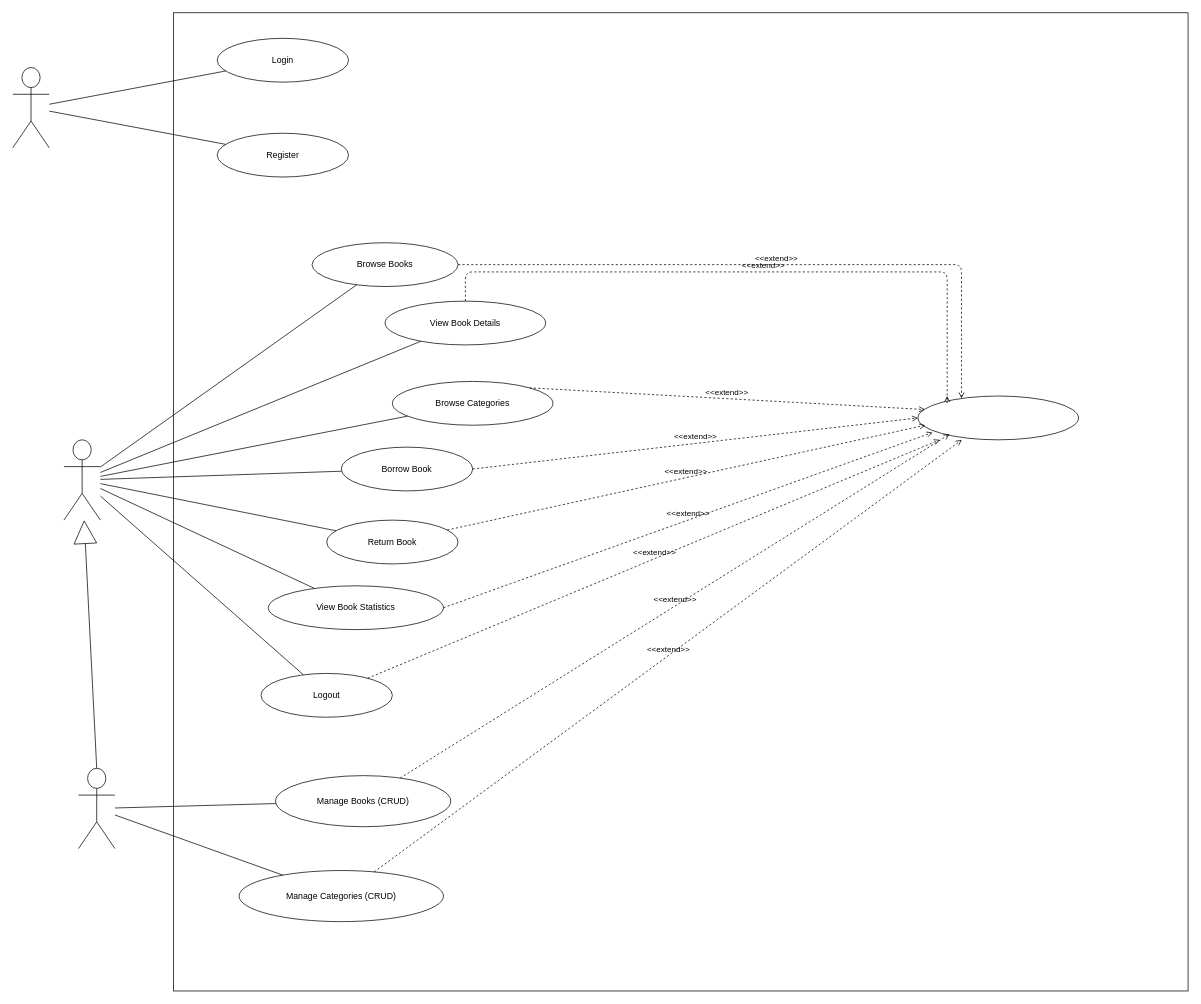
This 1201x1004 diagram has some shape labels left out. Here are the shapes that lost their labels. From the top down, the centre of each, then its label:
At (30,107): "Guest".
At (998,417): "Se conecter".
At (81,479): "User".
At (96,808): "Admin".
